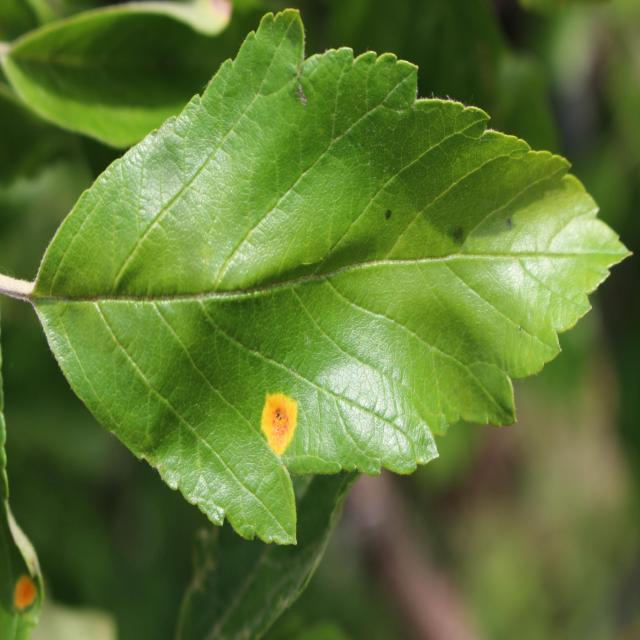Rust: (249, 356, 305, 468), (9, 572, 42, 614)
